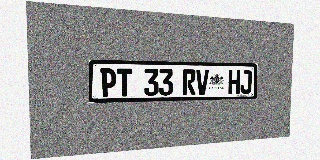3: (144, 69, 159, 96), (159, 69, 173, 96)
H: (228, 70, 240, 94)
J: (240, 70, 252, 94)
P: (100, 68, 116, 97)
R: (182, 69, 196, 95)
T: (117, 68, 132, 97)
V: (196, 69, 209, 95)
